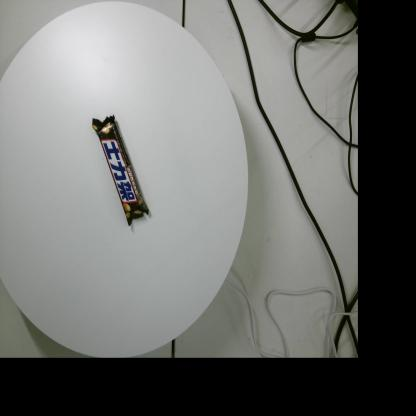Chocolate: (92, 114, 149, 226)
